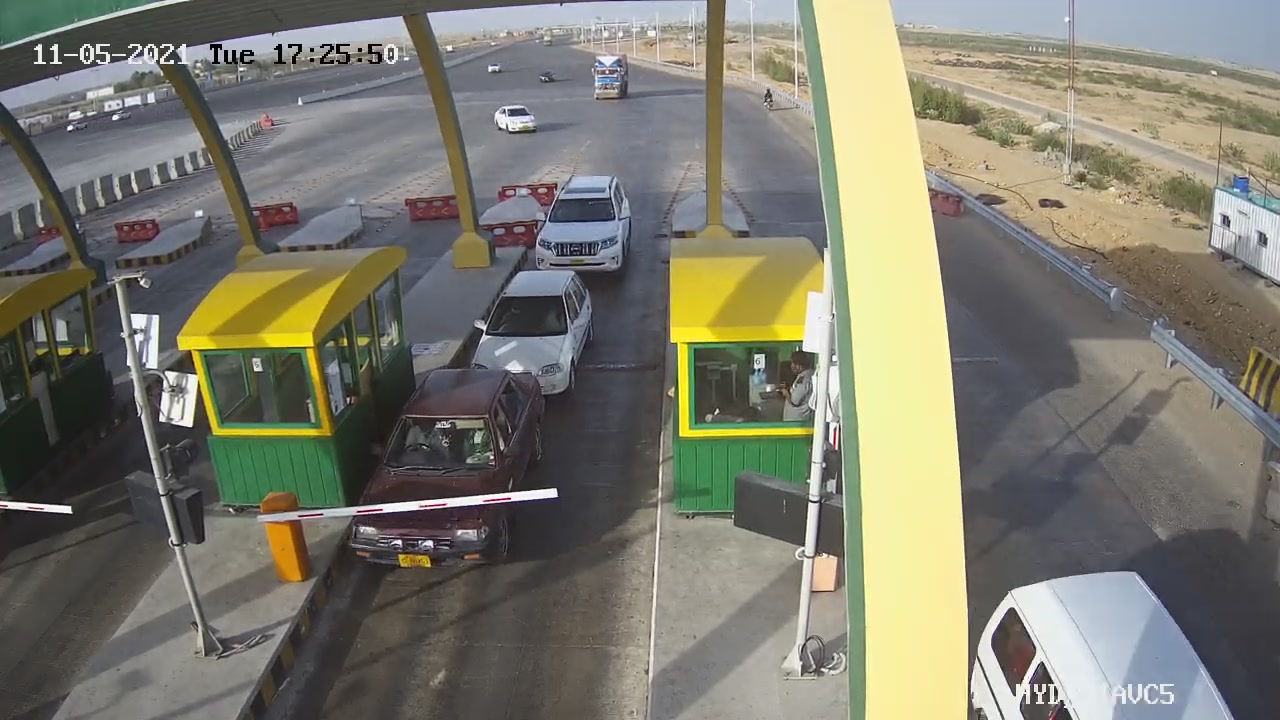F1: (335, 353, 566, 592), (455, 256, 609, 412), (520, 164, 648, 290)
